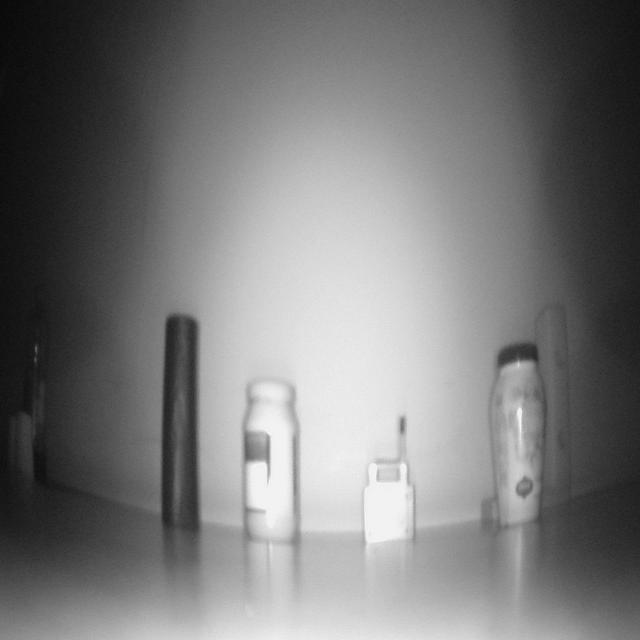targets: (241, 369, 305, 544), (488, 342, 540, 532), (162, 309, 200, 540), (538, 291, 574, 515), (15, 301, 52, 478), (364, 448, 416, 548), (10, 406, 34, 482)
